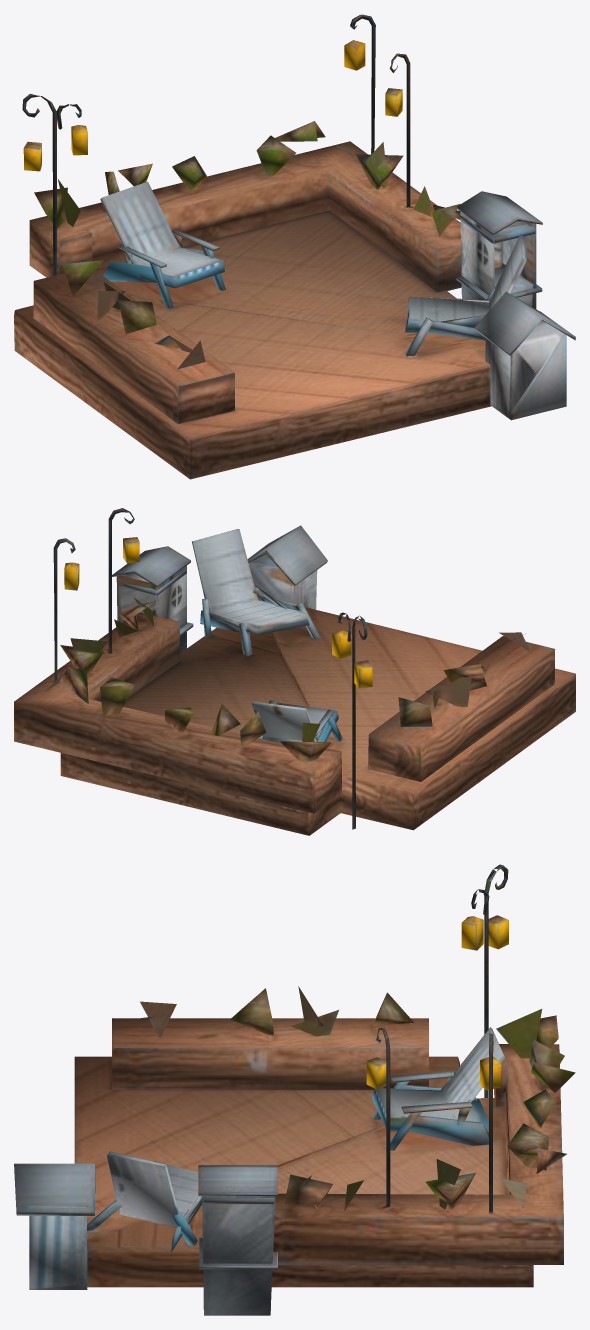
File: roof_garden.glb
3 views of the same model, one above another, from view 1: azimuth 30°, elevation 25°; view 2: azimuth 150°, elevation 25°; view 3: azimuth 270°, elevation 25° (orthographic). The views are drawn at different scales.
Bounding box in the file's own units: 4.6 × 2.58 × 5.
Materials: 1 (1 with a texture image).
